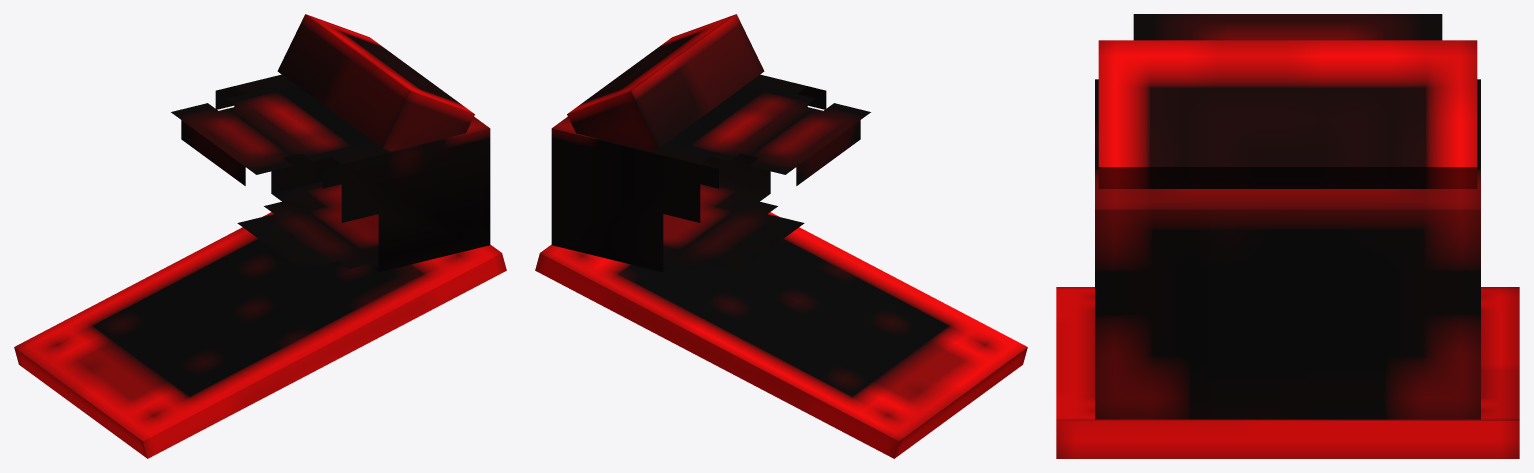
The model's file is SM_Armor_IllagerTowerGuard.glb.
The picture shows the model from 3 angles, left to right: view 1: azimuth 30°, elevation 25°; view 2: azimuth 150°, elevation 25°; view 3: azimuth 270°, elevation 25°; orthographic projection. The views are drawn at different scales.
Parts seen in each view (by area): view 1: SM_Armor_IllagerTowerGuard.001; view 2: SM_Armor_IllagerTowerGuard.001; view 3: SM_Armor_IllagerTowerGuard.001.
Part boxes in pixels (x1,y1,x2,y2): SM_Armor_IllagerTowerGuard.001: (14, 14, 506, 458); SM_Armor_IllagerTowerGuard.001: (535, 14, 1027, 458); SM_Armor_IllagerTowerGuard.001: (1056, 14, 1519, 458).
Bounding box in the file's own units: 122 × 93.88 × 75.
Materials: 1 (1 with a texture image).
